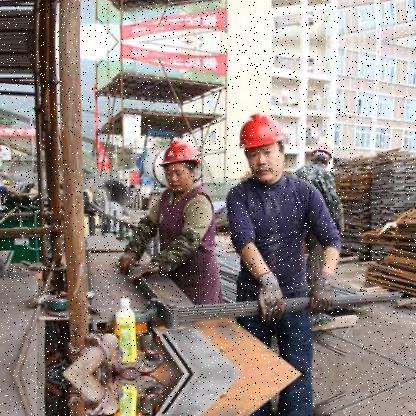helmet: (234, 109, 290, 180), (160, 134, 208, 192), (312, 139, 335, 167)
